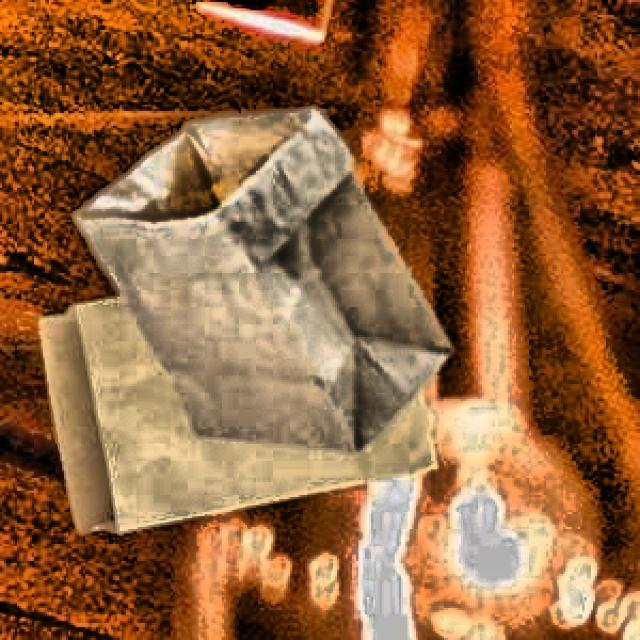Paper-bag: (86, 112, 478, 482), (28, 247, 472, 554)
